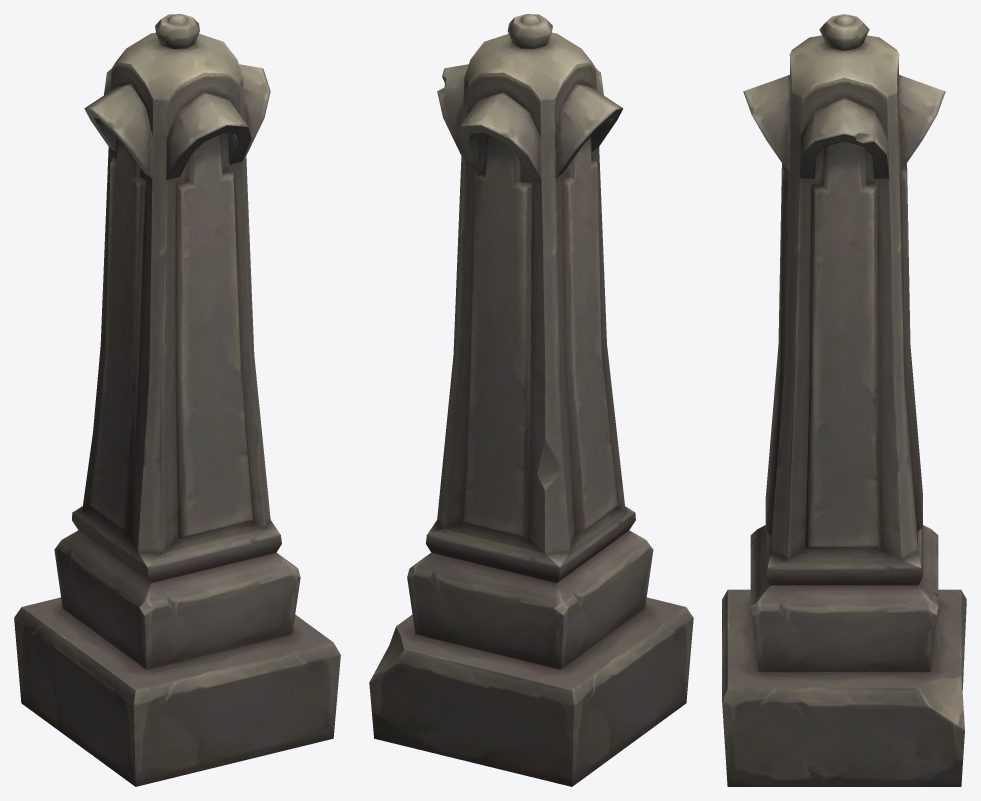
3 views of the same model, side by side, from view 1: azimuth 30°, elevation 25°; view 2: azimuth 150°, elevation 25°; view 3: azimuth 270°, elevation 25° (orthographic). The views are drawn at different scales.
Size of the model in its own units: 1.09 by 3.56 by 1.09.
1 material, 1 textured.
